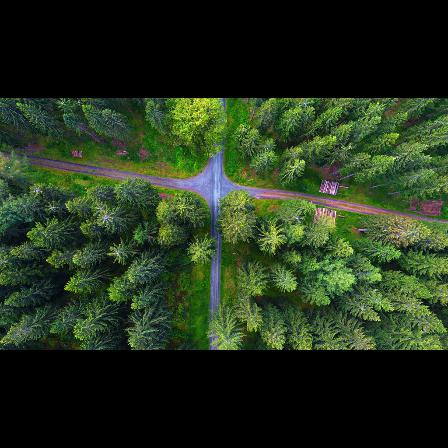Sick: (93, 209, 118, 228), (106, 242, 126, 264), (27, 181, 45, 198), (43, 200, 61, 216)
